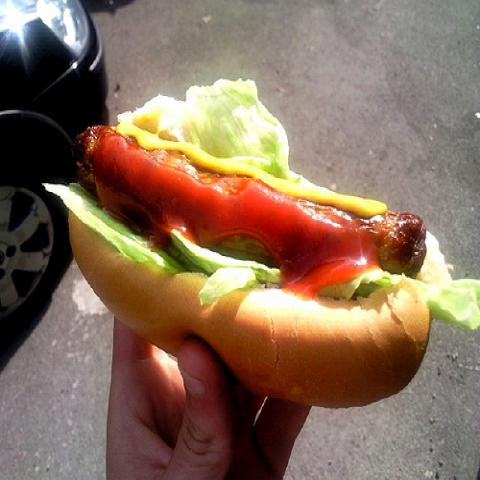car: (0, 0, 108, 342)
